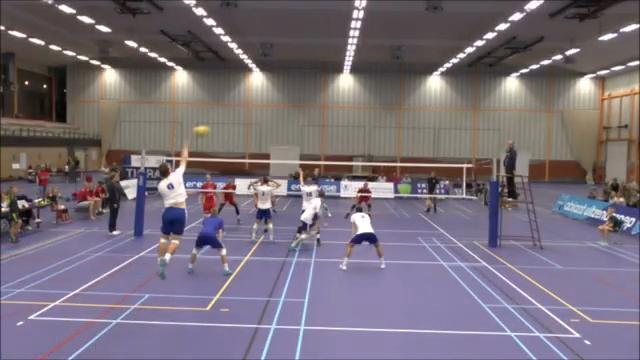battuta: (146, 138, 190, 279)
